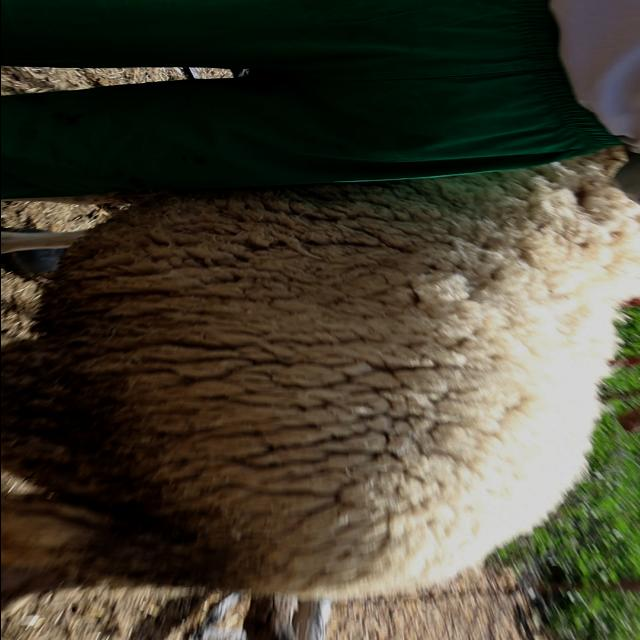Score_5: (1, 146, 640, 607)
